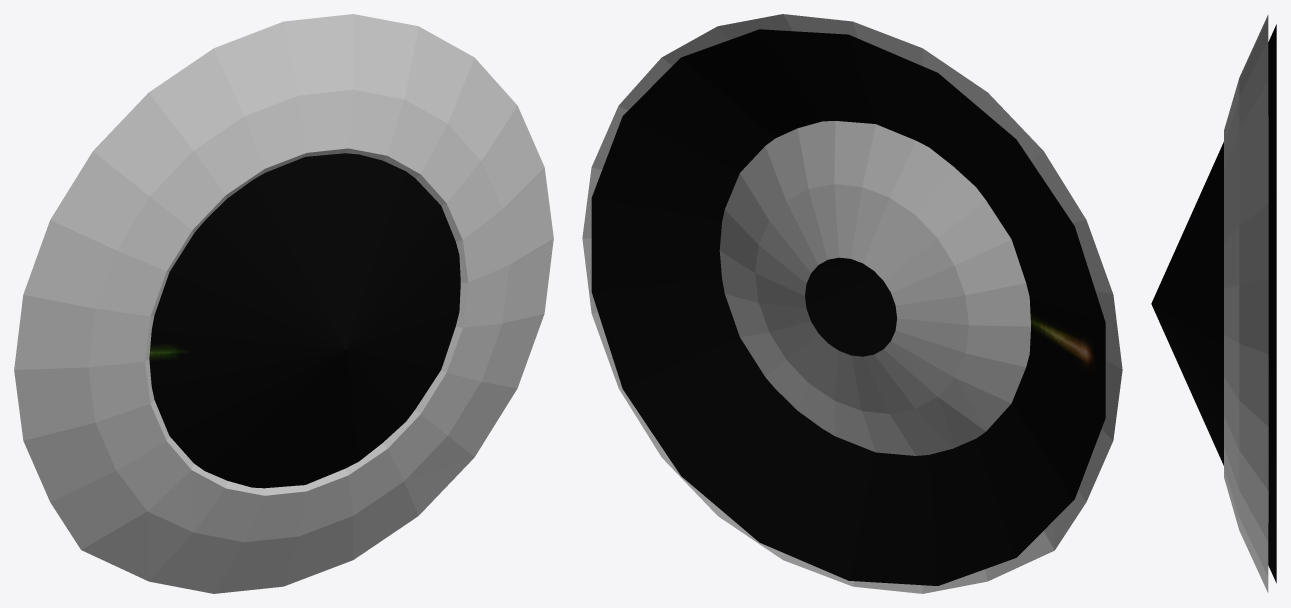
File: tx_teshuchuansongmen.obj
The picture shows the model from 3 angles, left to right: view 1: azimuth 30°, elevation 25°; view 2: azimuth 150°, elevation 25°; view 3: azimuth 270°, elevation 25°; orthographic projection. The views are drawn at different scales.
Parts seen in each view (by area): view 1: Plane022, Sphere03; view 2: Sphere03, Plane022; view 3: Plane022, Sphere03.
Boxes of the visible parts, x1,y1,x2,y2 form: Plane022: [14, 14, 553, 593]; Sphere03: [149, 153, 460, 488]; Sphere03: [591, 29, 1105, 585]; Plane022: [582, 14, 1122, 593]; Plane022: [1224, 14, 1268, 592]; Sphere03: [1151, 24, 1276, 583].
Size of the model in its own units: 121 by 121 by 26.14.
